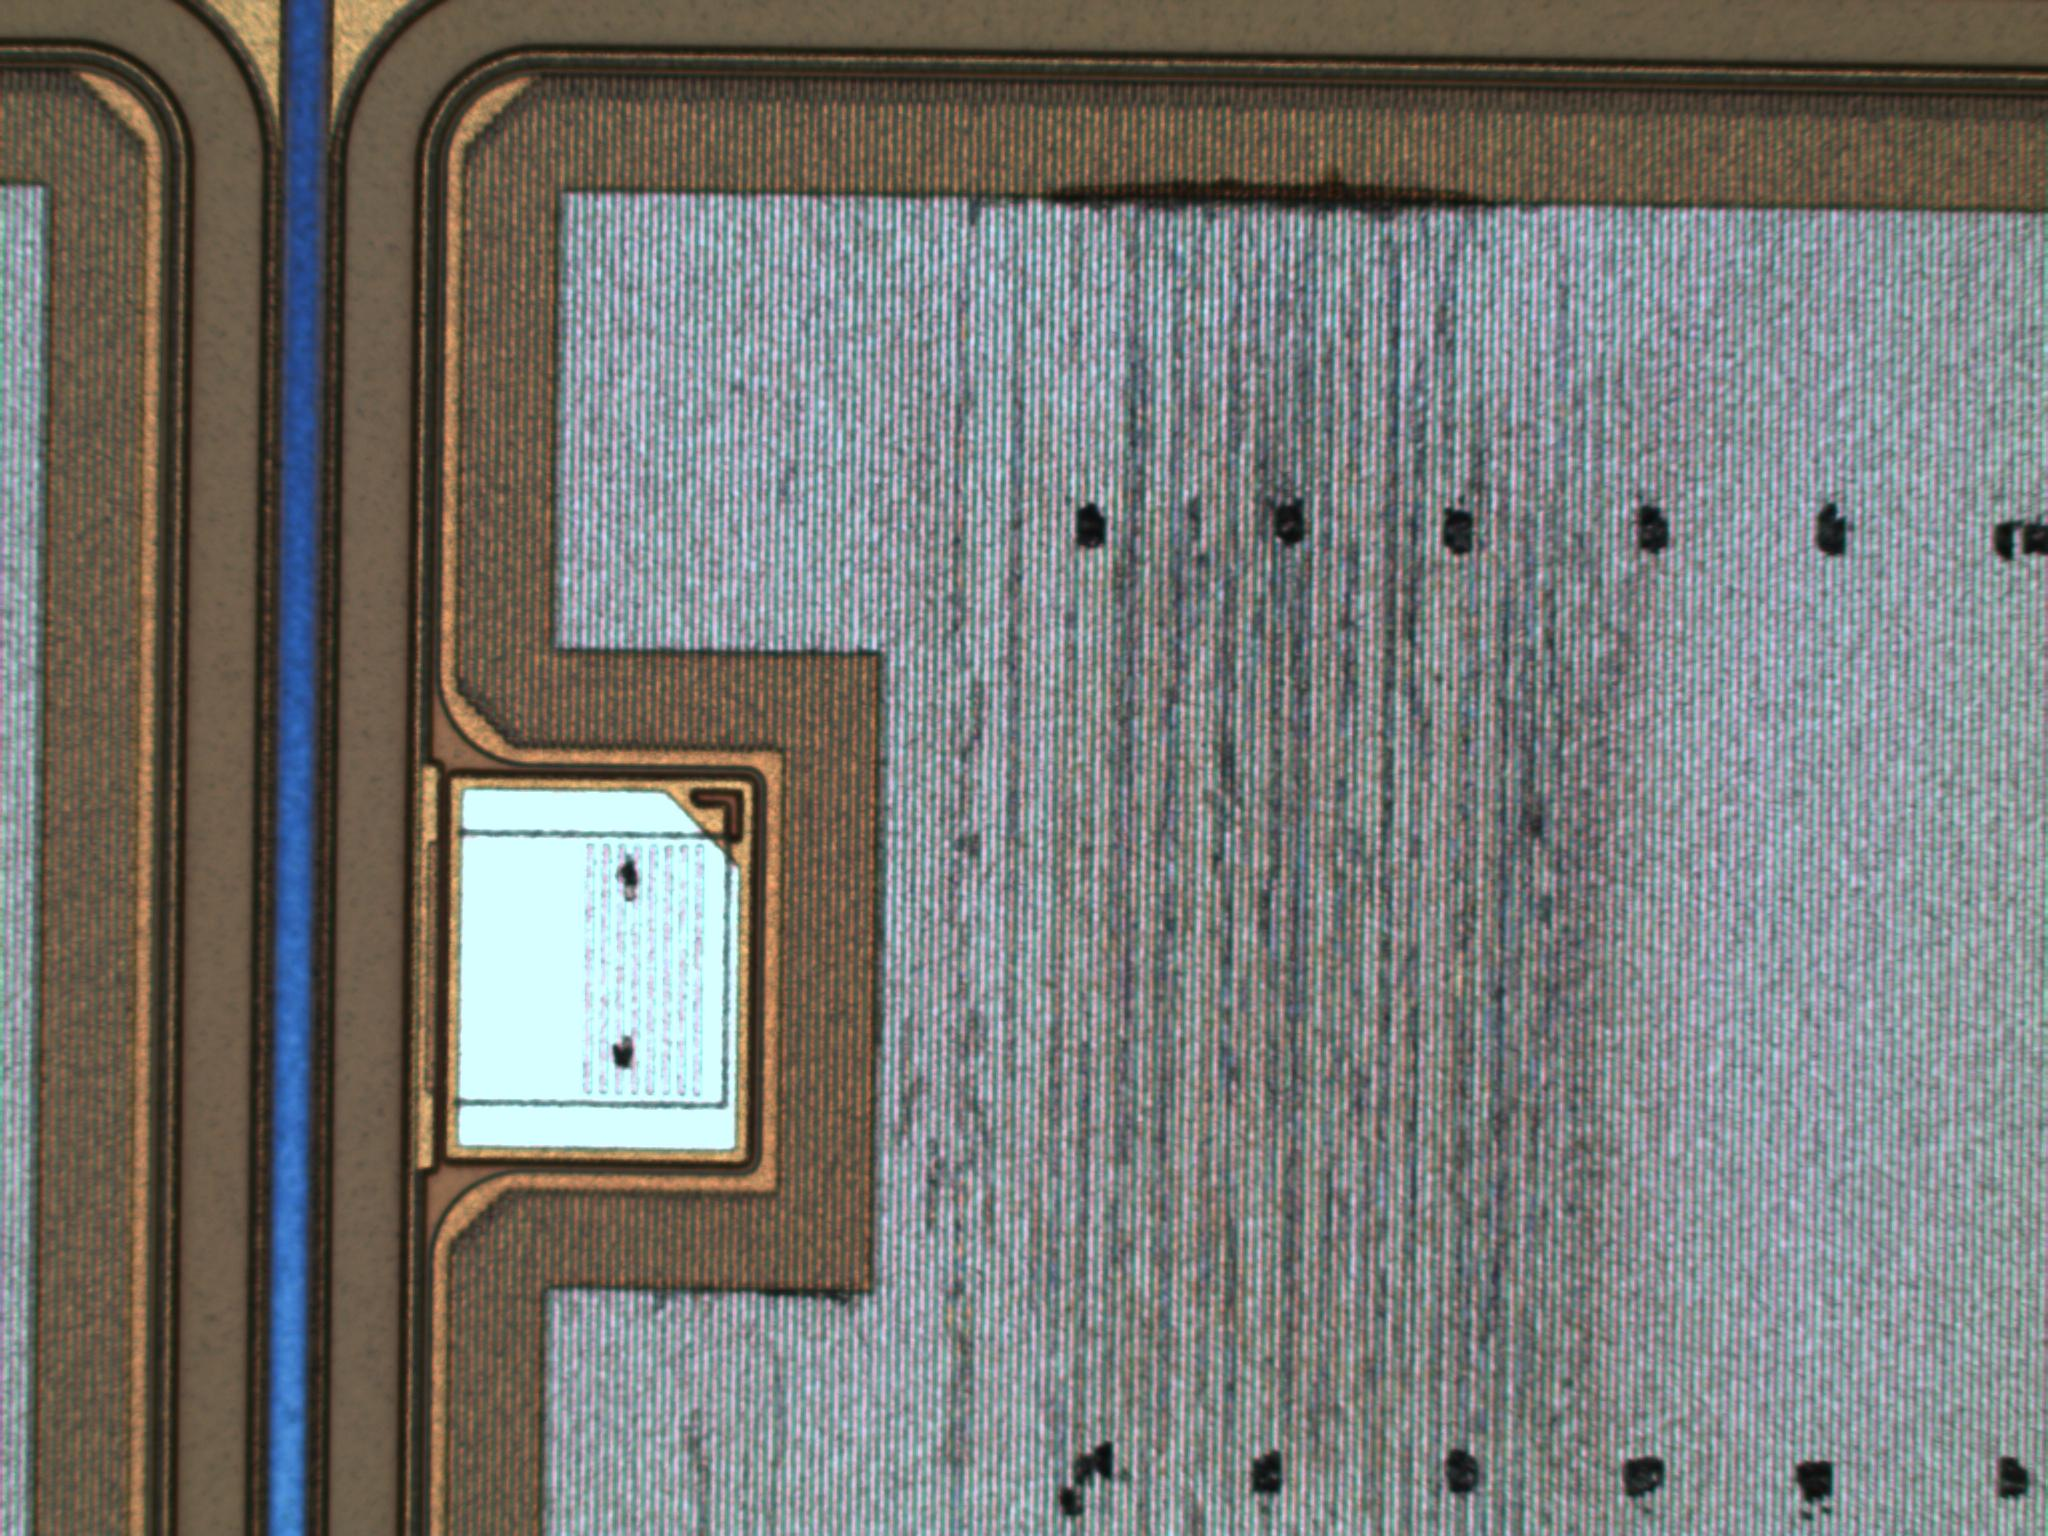SEZ BURNT: (547, 177, 1880, 1536)
